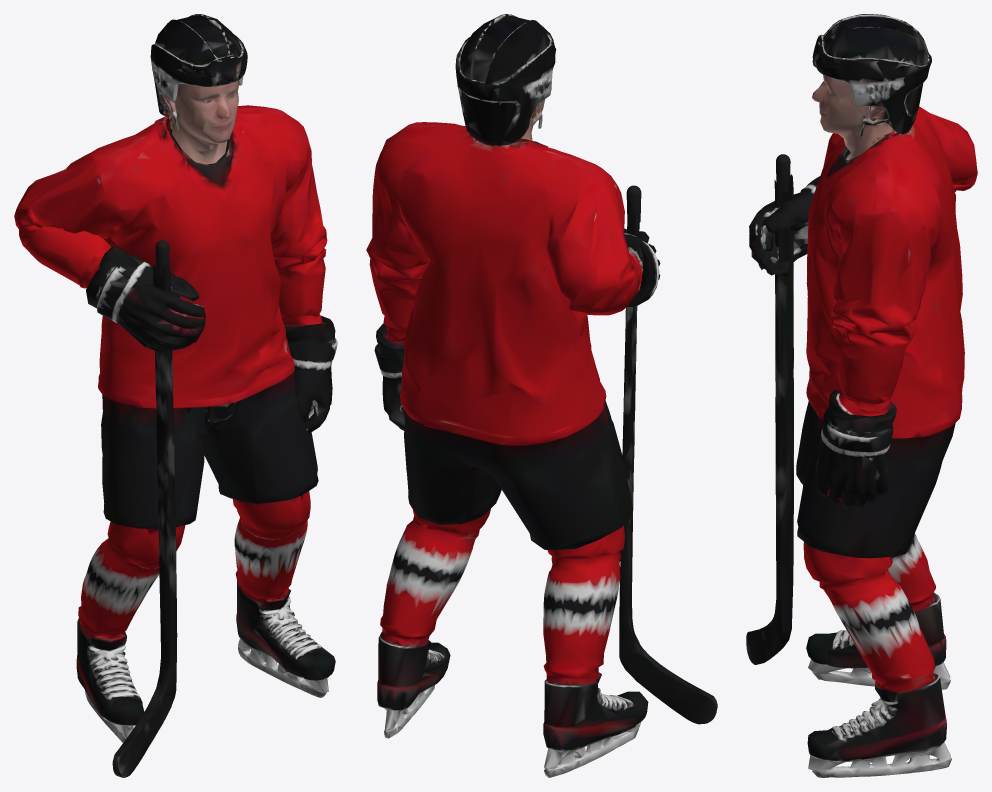
The picture shows the model from 3 angles, left to right: view 1: azimuth 30°, elevation 25°; view 2: azimuth 150°, elevation 25°; view 3: azimuth 270°, elevation 25°; orthographic projection. The views are drawn at different scales.
Parts seen in each view (by area): view 1: skater; view 2: skater; view 3: skater.
Part boxes in pixels (x1,y1,x2,y2): skater: (14, 14, 337, 777); skater: (366, 14, 717, 777); skater: (746, 14, 977, 777).
Size of the model in its own units: 0.7958 by 1.87 by 0.5527.
